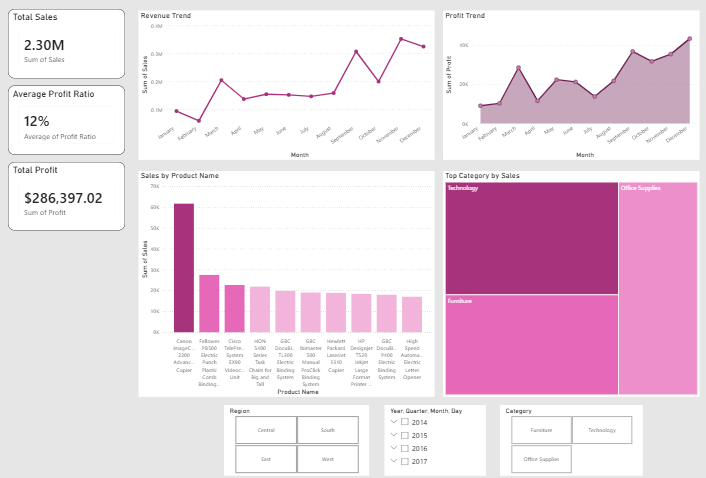

The page's visual inventory and layout, read from the dashboard file:
{"tool":"powerbi","page":{"name":"Page 1","canvas":[1920,1080],"ordinal":0},"visuals":[{"type":"cardVisual","title":"Total Sales ","fields":{"Data":["Sum(Sheet1.Sales)"]},"box":[28,28,260,154],"z":0},{"type":"cardVisual","title":"Average Profit Ratio","fields":{"Data":["Avg(Sheet1.Profit Ratio)"]},"box":[28,196,260,154],"z":1000},{"type":"cardVisual","title":"Total Profit","fields":{"Data":["Sum(Sheet1.Profit)"]},"box":[28,366,260,152],"z":2000},{"type":"lineChart","title":"Revenue Trend","fields":{"Category":["Sheet1.Order Date.Variation.Date Hierarchy.Year","Sheet1.Order Date.Variation.Date Hierarchy.Quarter","Sheet1.Order Date.Variation.Date Hierarchy.Month"],"Y":["Sum(Sheet1.Sales)"]},"box":[318,30,658,332],"z":3000},{"type":"areaChart","title":"Profit Trend","fields":{"Category":["Sheet1.Order Date.Variation.Date Hierarchy.Year","Sheet1.Order Date.Variation.Date Hierarchy.Quarter","Sheet1.Order Date.Variation.Date Hierarchy.Month"],"Y":["Sum(Sheet1.Profit)"]},"box":[994,30,570,332],"z":4000},{"type":"treemap","title":"Top Category by Sales","fields":{"Group":["Sheet1.Category"],"Values":["Sum(Sheet1.Sales)"]},"box":[994,386,570,502],"z":5000},{"type":"clusteredColumnChart","title":"Sales by Product Name","fields":{"Category":["Sheet1.Product Name"],"Y":["Sum(Sheet1.Sales)"]},"box":[318,386,658,502],"z":6000},{"type":"slicer","fields":{"Values":["Sheet1.Region"]},"box":[507.5,907.5,322.5,157.5],"z":7000},{"type":"slicer","fields":{"Values":["Sheet1.Order Date.Variation.Date Hierarchy.Year","Sheet1.Order Date.Variation.Date Hierarchy.Quarter","Sheet1.Order Date.Variation.Date Hierarchy.Month","Sheet1.Order Date.Variation.Date Hierarchy.Day"]},"box":[862.5,907.5,225,157.5],"z":8000},{"type":"slicer","fields":{"Values":["Sheet1.Category"]},"box":[1120,907.5,317.5,157.5],"z":9000}]}

Visuals, with their boxes on the page's 1920x1080 design canvas (x1, y1, x2, y2). These are canvas units, not pixel positions in the 706x478 screenshot, which may show the page scaled, cropped or inside an application window:
"Total Sales " cardVisual: box=[28, 28, 288, 182]
"Average Profit Ratio" cardVisual: box=[28, 196, 288, 350]
"Total Profit" cardVisual: box=[28, 366, 288, 518]
"Revenue Trend" lineChart: box=[318, 30, 976, 362]
"Profit Trend" areaChart: box=[994, 30, 1564, 362]
"Top Category by Sales" treemap: box=[994, 386, 1564, 888]
"Sales by Product Name" clusteredColumnChart: box=[318, 386, 976, 888]
slicer - Sheet1.Region: box=[508, 908, 830, 1065]
slicer - Sheet1.Order Date.Variation.Date Hierarchy.Year x Sheet1.Order Date.Variation.Date Hierarchy.Quarter: box=[862, 908, 1088, 1065]
slicer - Sheet1.Category: box=[1120, 908, 1438, 1065]
